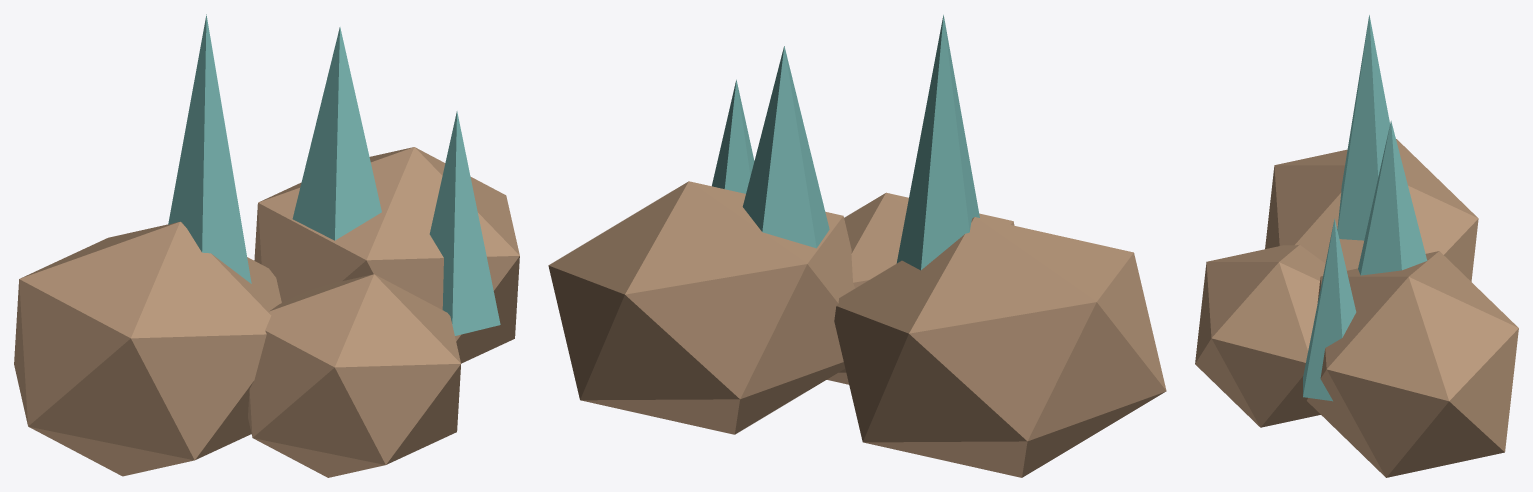
Rendered from 05_OreCluster.glb.
3 views of the same model, side by side, from view 1: azimuth 30°, elevation 25°; view 2: azimuth 150°, elevation 25°; view 3: azimuth 270°, elevation 25° (orthographic). The views are drawn at different scales.
Visible parts, largest first — view 1: Ore stone, Ore stone.002, Ore stone.001, Copper crystal, Copper crystal.001, Copper crystal.002; view 2: Ore stone, Ore stone.001, Copper crystal, Copper crystal.001, Ore stone.002, Copper crystal.002; view 3: Ore stone.001, Ore stone.002, Ore stone, Copper crystal, Copper crystal.001, Copper crystal.002.
Part boxes in pixels (left/top/right/bottom): Ore stone: left=14, top=221, right=281, bottom=476; Ore stone.002: left=248, top=274, right=460, bottom=477; Ore stone.001: left=254, top=147, right=519, bottom=363; Copper crystal: left=168, top=14, right=251, bottom=283; Copper crystal.001: left=292, top=27, right=381, bottom=240; Copper crystal.002: left=429, top=111, right=500, bottom=335; Ore stone: left=834, top=217, right=1166, bottom=477; Ore stone.001: left=548, top=181, right=855, bottom=434; Copper crystal: left=896, top=15, right=979, bottom=270; Copper crystal.001: left=742, top=46, right=829, bottom=248; Ore stone.002: left=827, top=192, right=1014, bottom=384; Copper crystal.002: left=712, top=79, right=754, bottom=193; Ore stone.001: left=1306, top=251, right=1518, bottom=477; Ore stone.002: left=1195, top=244, right=1325, bottom=427; Ore stone: left=1265, top=139, right=1478, bottom=281; Copper crystal: left=1337, top=15, right=1389, bottom=240; Copper crystal.001: left=1358, top=120, right=1427, bottom=275; Copper crystal.002: left=1303, top=219, right=1356, bottom=401.
Bounding box in the file's own units: 1.2 × 0.9287 × 0.7455.
